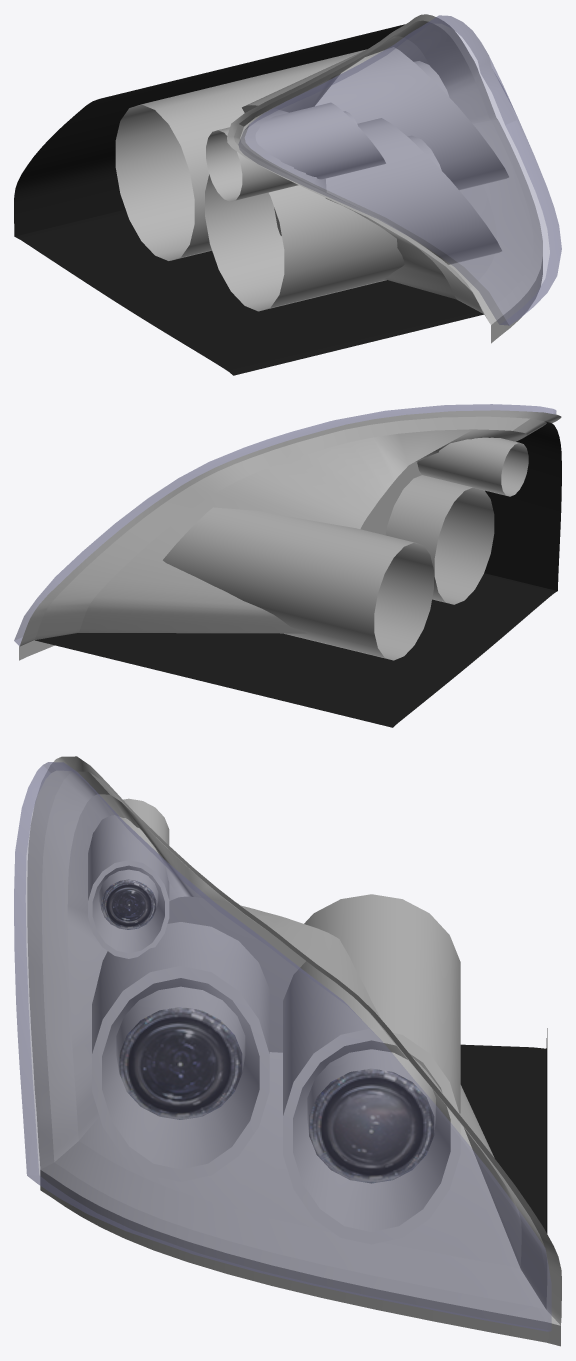
3 renders of one model, top to bottom at view 1: azimuth 30°, elevation 25°; view 2: azimuth 150°, elevation 25°; view 3: azimuth 270°, elevation 25°, orthographic. The views are drawn at different scales.
Parts seen in each view (by area): view 1: LX61_061B_R_LX61_061B_R_4_DaS, LX61_061B_R_LX61_061B_R_6_DTaSI, LX61_061B_R_LX61_061B_R_5_D; view 2: LX61_061B_R_LX61_061B_R_4_DaS, LX61_061B_R_LX61_061B_R_5_D, LX61_061B_R_LX61_061B_R_6_DTaSI; view 3: LX61_061B_R_LX61_061B_R_4_DaS, LX61_061B_R_LX61_061B_R_6_DTaSI, LX61_061B_R_LX61_061B_R_3_N, LX61_061B_R_LX61_061B_R_2_N, LX61_061B_R_LX61_061B_R_5_D, LX61_061B_R_1_N_LX61_061B_R.
Boxes of the visible parts, <box> form: LX61_061B_R_LX61_061B_R_4_DaS: <box>115,14,542,343</box>; LX61_061B_R_LX61_061B_R_6_DTaSI: <box>238,15,561,325</box>; LX61_061B_R_LX61_061B_R_5_D: <box>14,24,483,375</box>; LX61_061B_R_LX61_061B_R_4_DaS: <box>19,410,561,660</box>; LX61_061B_R_LX61_061B_R_5_D: <box>35,421,561,727</box>; LX61_061B_R_LX61_061B_R_6_DTaSI: <box>14,404,556,645</box>; LX61_061B_R_LX61_061B_R_4_DaS: <box>27,756,561,1346</box>; LX61_061B_R_LX61_061B_R_6_DTaSI: <box>14,762,551,1331</box>; LX61_061B_R_LX61_061B_R_3_N: <box>309,1068,434,1183</box>; LX61_061B_R_LX61_061B_R_2_N: <box>119,1007,242,1119</box>; LX61_061B_R_LX61_061B_R_5_D: <box>460,1028,547,1233</box>; LX61_061B_R_1_N_LX61_061B_R: <box>101,879,156,929</box>.
Bounding box in the file's own units: 49.99 × 27.45 × 41.57.
